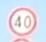limite 40: (7, 6, 38, 37)
